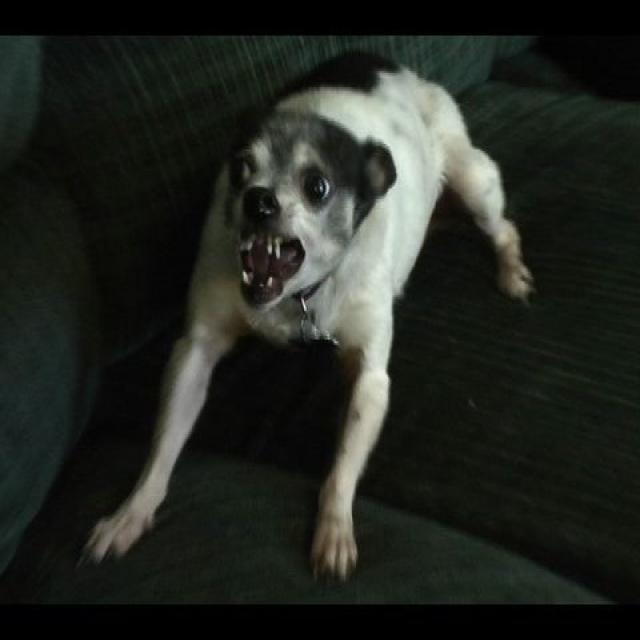angry: (94, 34, 546, 604)
